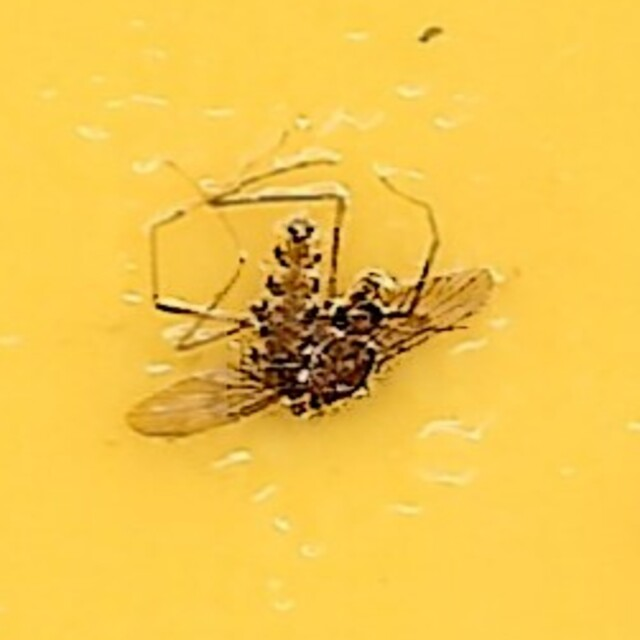Nematocera: (255, 215, 385, 425)
